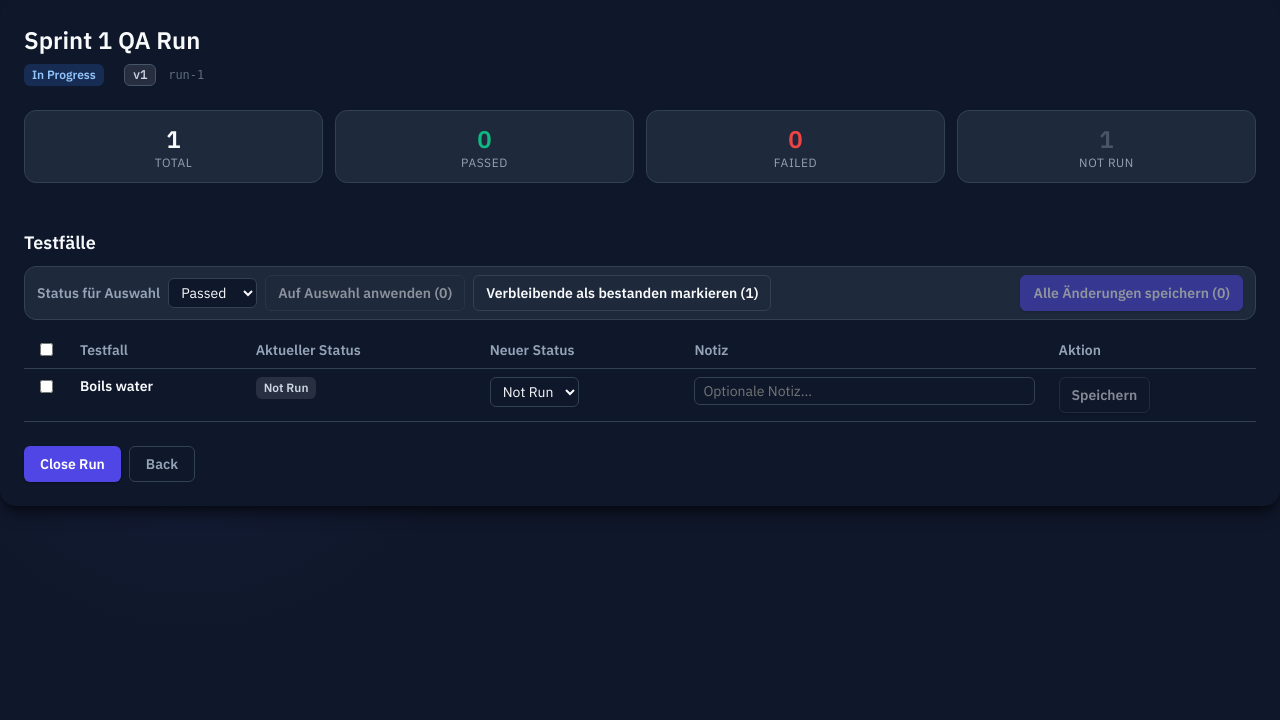
Test: TestRunDetailEditor result entry (UI-04) › keeps the save-success banner visible after the post-write results reload (UI-LOW-2)
Select "Passed" in the dropdown with test id "testrun-result-status-select-res-1" at (534, 392), box [490, 377, 579, 407]
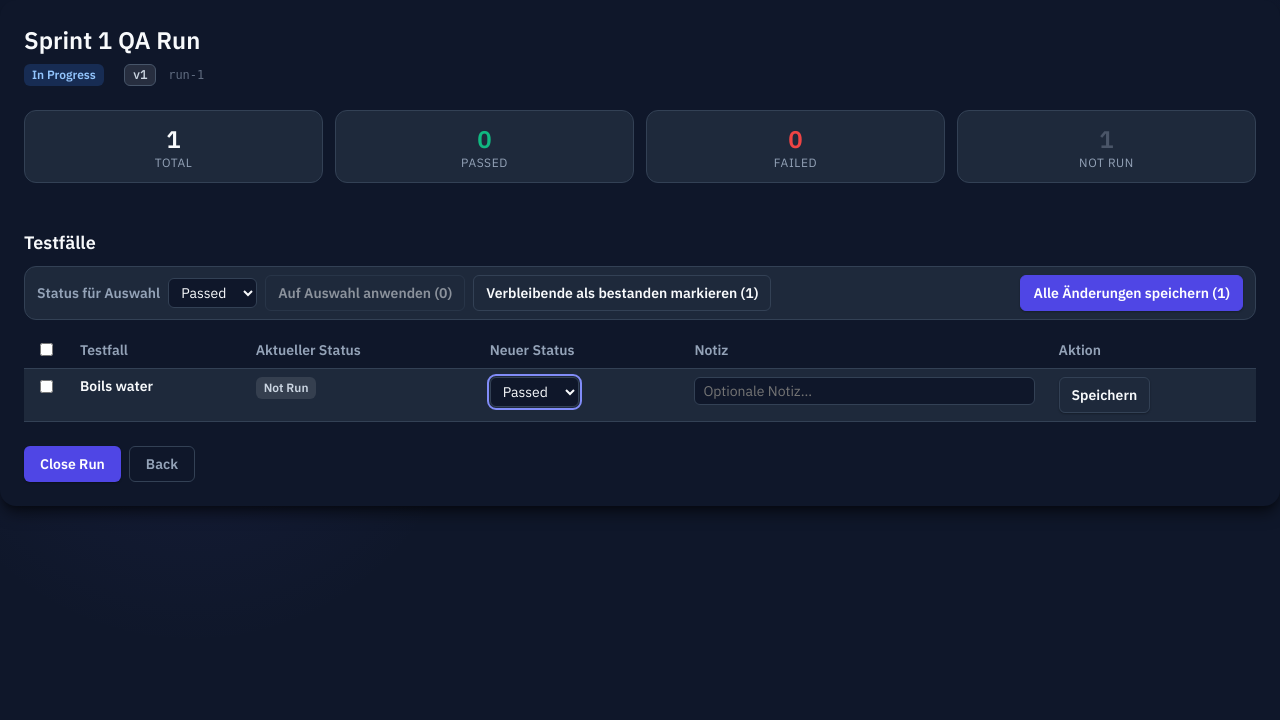
Click the button with test id "testrun-results-save-all".
click(1132, 293)  # box [1020, 275, 1243, 311]
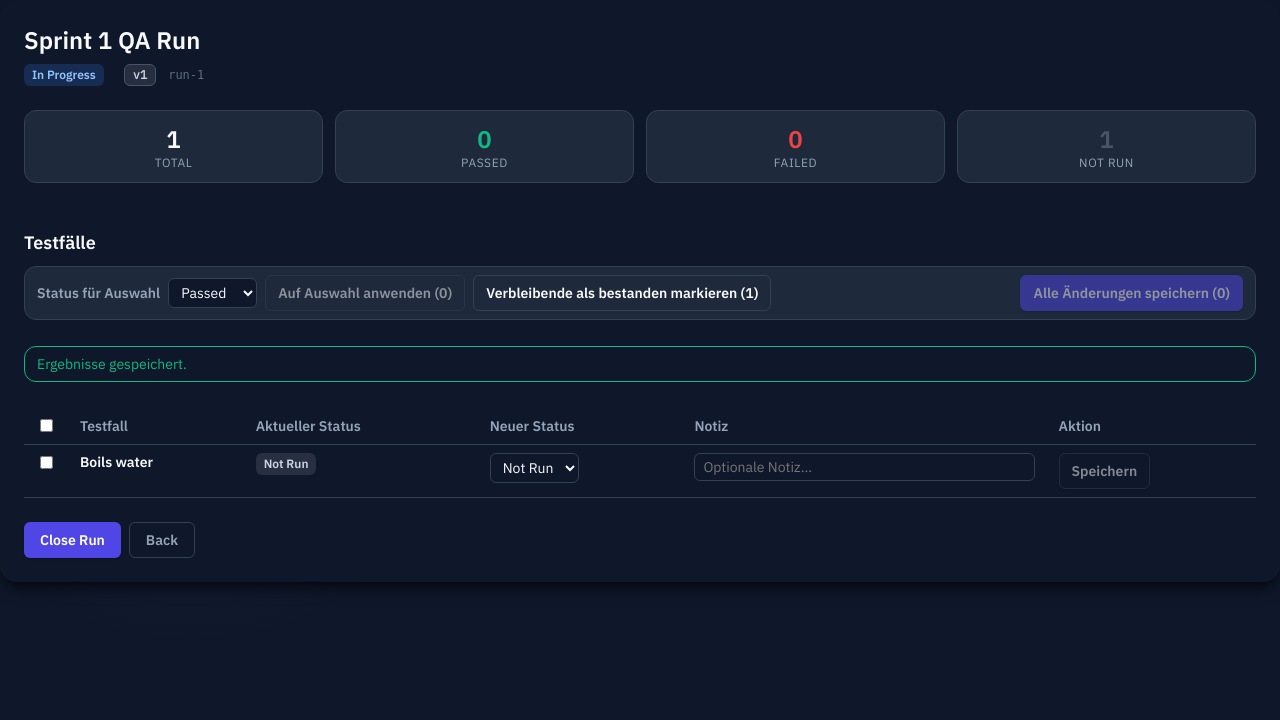
Expected: the message "Ergebnisse gespeichert." is shown, [24, 346, 1256, 382]
